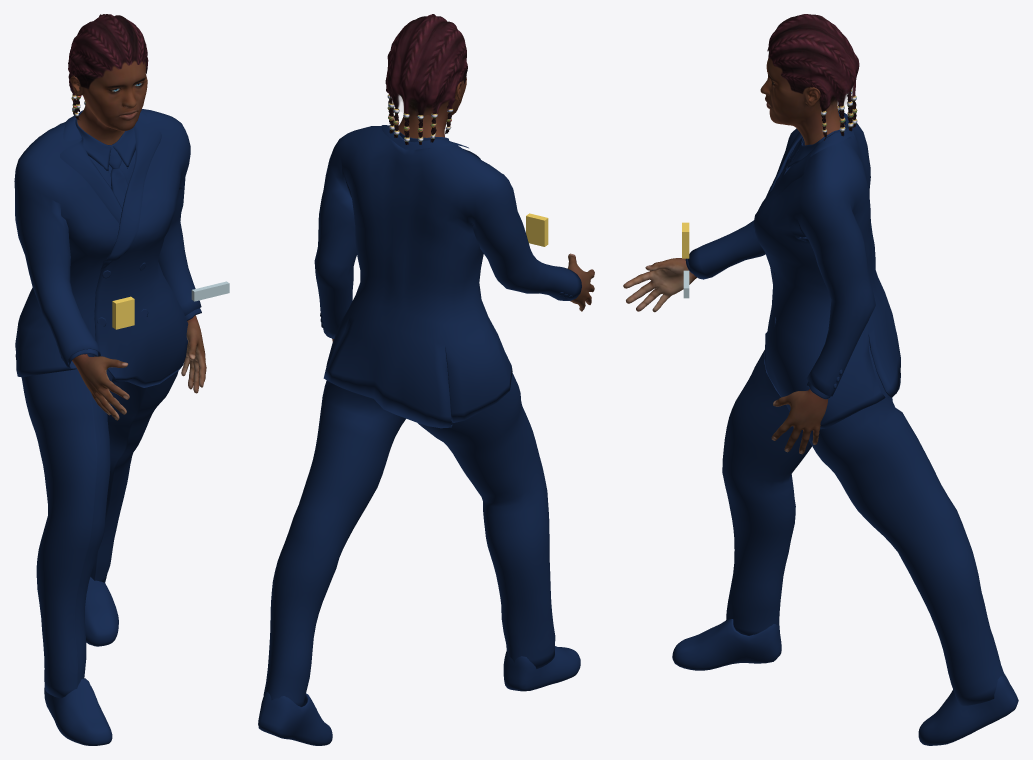
The model's file is polizia-donna.glb.
3 views of the same model, side by side, from view 1: azimuth 30°, elevation 25°; view 2: azimuth 150°, elevation 25°; view 3: azimuth 270°, elevation 25° (orthographic). The views are drawn at different scales.
Parts seen in each view (by area): view 1: Human.toigo_female_double-breasted_suit, Human, Human.shoes05, Human.elvs_braided_rows, Distintivo, Piastrina polizia; view 2: Human.toigo_female_double-breasted_suit, Human.elvs_braided_rows, Human.shoes05, Human, Distintivo; view 3: Human.toigo_female_double-breasted_suit, Human, Human.shoes05, Human.elvs_braided_rows.
Part boxes in pixels (left/top/right/bottom): Human.toigo_female_double-breasted_suit: left=14, top=109, right=201, bottom=698; Human: left=70, top=60, right=206, bottom=420; Human.shoes05: left=44, top=577, right=118, bottom=745; Human.elvs_braided_rows: left=68, top=14, right=148, bottom=119; Distintivo: left=112, top=296, right=134, bottom=329; Piastrina polizia: left=191, top=281, right=229, bottom=301; Human.toigo_female_double-breasted_suit: left=263, top=124, right=581, bottom=706; Human.elvs_braided_rows: left=385, top=14, right=467, bottom=144; Human.shoes05: left=258, top=646, right=580, bottom=745; Human: left=332, top=77, right=594, bottom=341; Distintivo: left=526, top=213, right=548, bottom=246; Human.toigo_female_double-breasted_suit: left=685, top=110, right=1005, bottom=705; Human: left=623, top=58, right=845, bottom=454; Human.shoes05: left=672, top=619, right=1018, bottom=745; Human.elvs_braided_rows: left=767, top=14, right=859, bottom=140.
Size of the model in its own units: 0.4983 by 1.68 by 0.8574.
Materials: 14 (10 with a texture image).
